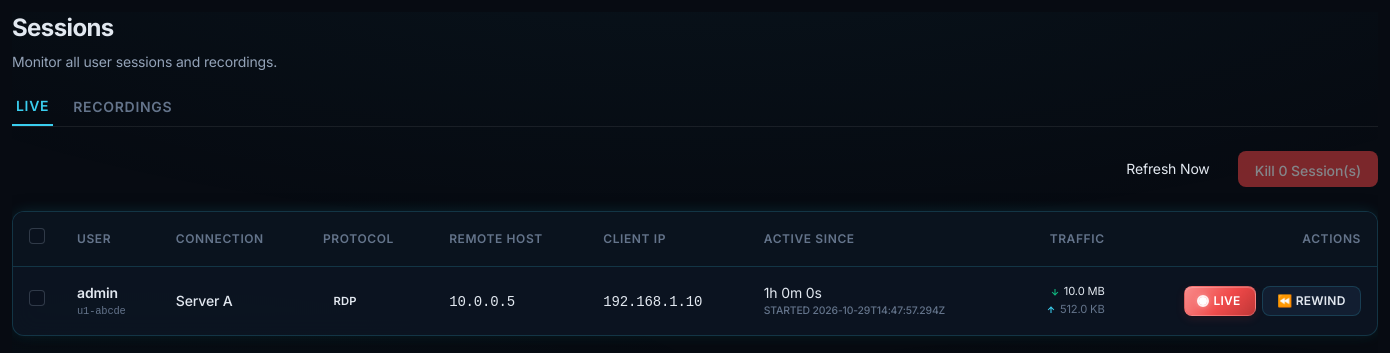
Test: Sessions › selects a session via checkbox
This screenshot has width=1390, height=353.
// First is select-all, second is the session row
What coordinates should you click on to do the following:
click the checkbox next to "admin"
I would click on:
 (37, 298)
Its box is left=29, top=290, right=45, bottom=306.
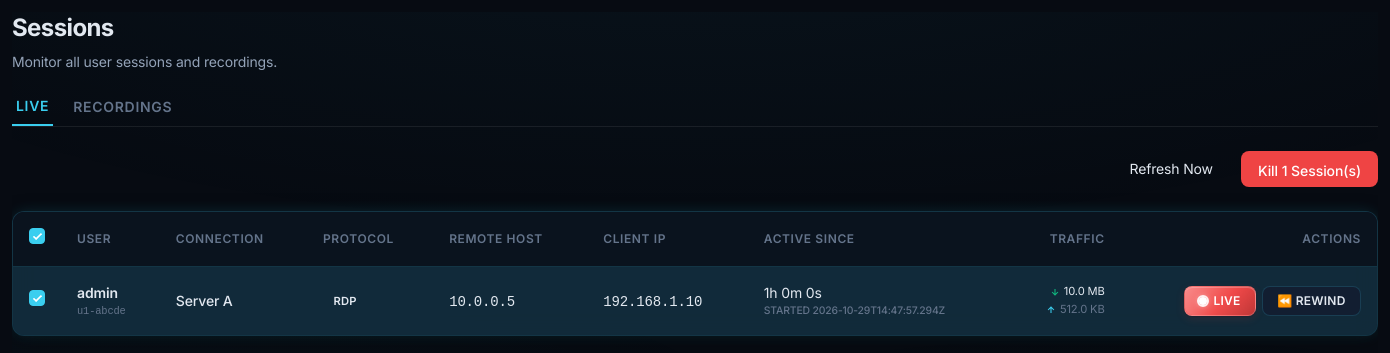
Expected: the button "Kill 1 Session(s)" is shown, left=1241, top=151, right=1378, bottom=187
